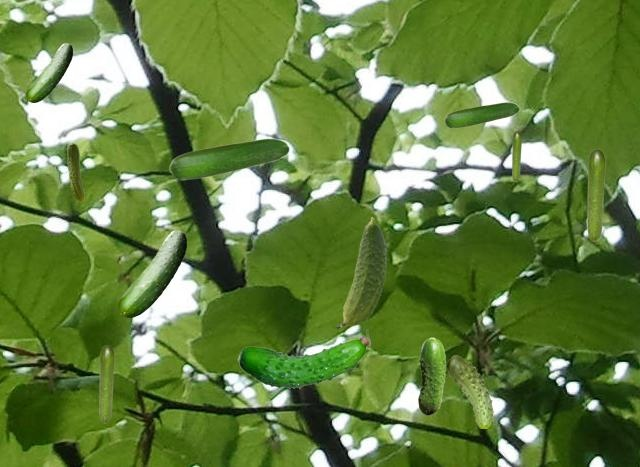cucumber: (237, 329, 369, 388), (118, 230, 185, 316), (336, 217, 386, 327), (169, 138, 288, 179), (446, 355, 493, 427), (26, 43, 71, 101), (418, 337, 445, 414), (444, 102, 518, 127), (587, 149, 604, 240), (99, 345, 113, 422), (67, 143, 83, 201), (512, 131, 520, 180)
